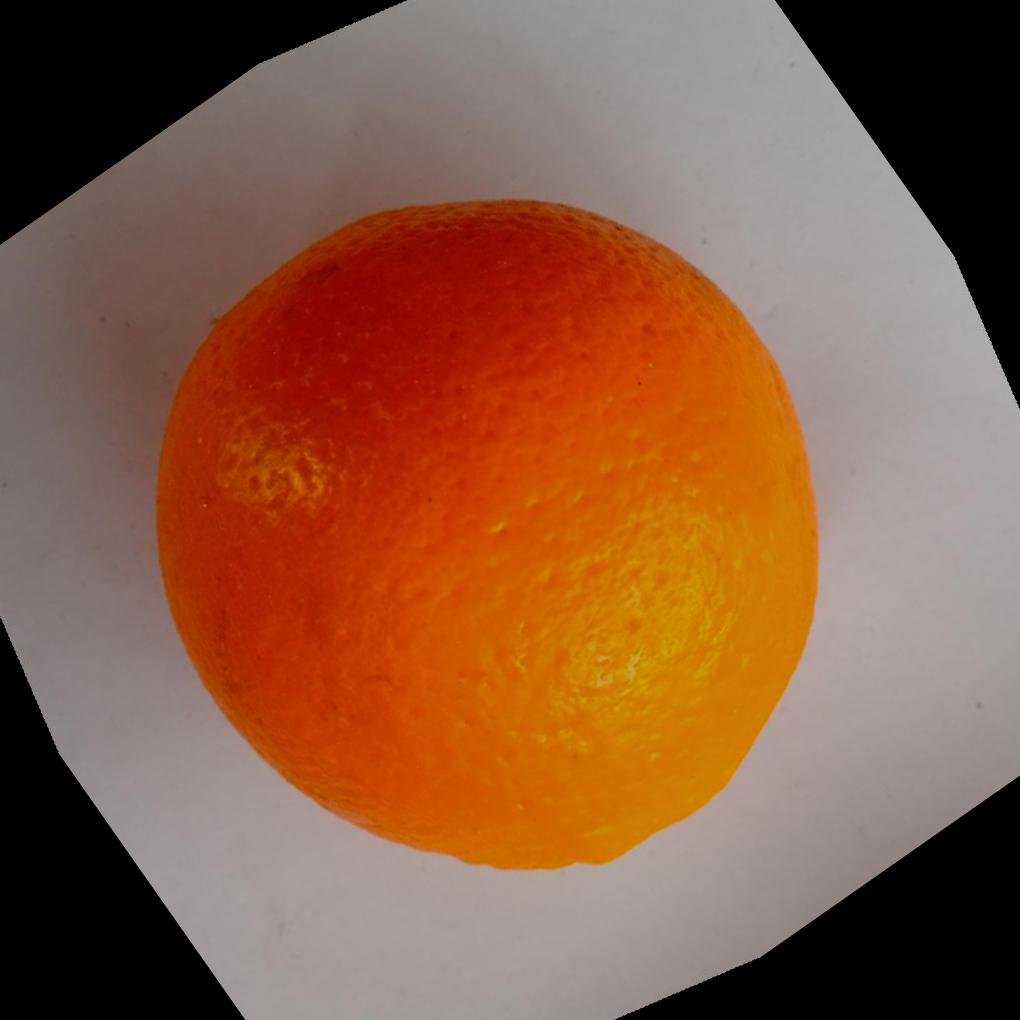FreshGuava: (149, 197, 818, 875)
